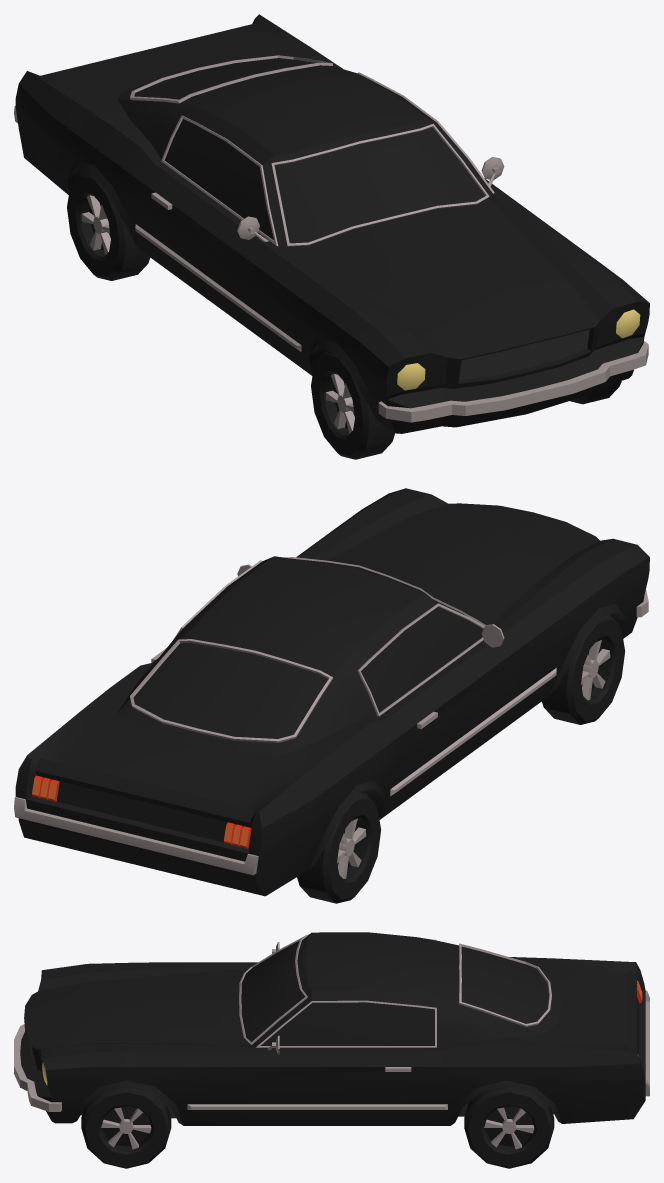
File: Mustang.fbx
The picture shows the model from 3 angles, top to bottom: view 1: azimuth 30°, elevation 25°; view 2: azimuth 150°, elevation 25°; view 3: azimuth 270°, elevation 25°; orthographic projection. The views are drawn at different scales.
Parts seen in each view (by area): view 1: Mustang; view 2: Mustang; view 3: Mustang.
Part boxes in pixels (<box>): Mustang: <box>14,14,649,459</box>; Mustang: <box>14,488,649,903</box>; Mustang: <box>14,932,649,1168</box>.
Size of the model in its own units: 2.29 by 1.69 by 5.91.
Materials: 1 (1 with a texture image).
